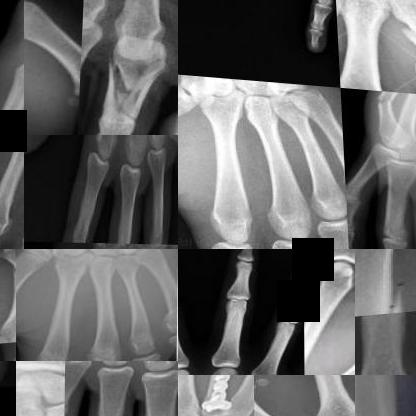fracture: (108, 51, 172, 121), (355, 280, 415, 322), (193, 375, 252, 415), (0, 261, 16, 325), (369, 86, 398, 113), (82, 39, 92, 91), (163, 298, 177, 330), (406, 37, 415, 80)
